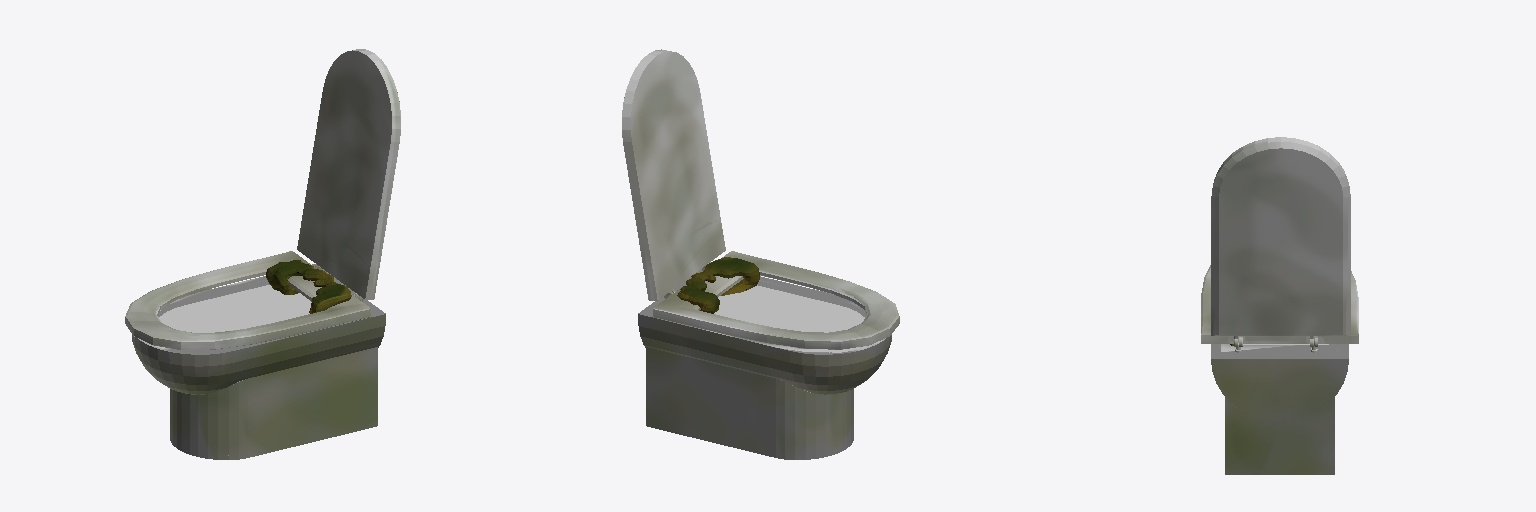
The picture shows the model from 3 angles: view 1: azimuth 30°, elevation 25°; view 2: azimuth 150°, elevation 25°; view 3: azimuth 270°, elevation 25°; orthographic projection.
Parts seen in each view (by area): view 1: WC, Dirty; view 2: WC, Dirty; view 3: WC.
Part boxes in pixels (left/top/right/bottom): WC: left=125, top=49, right=400, bottom=459; Dirty: left=266, top=260, right=351, bottom=313; WC: left=622, top=49, right=899, bottom=459; Dirty: left=677, top=257, right=759, bottom=313; WC: left=1201, top=137, right=1358, bottom=474.
Size of the model in its own units: 2.01 by 2.71 by 1.12.
Materials: 2 (2 with a texture image).